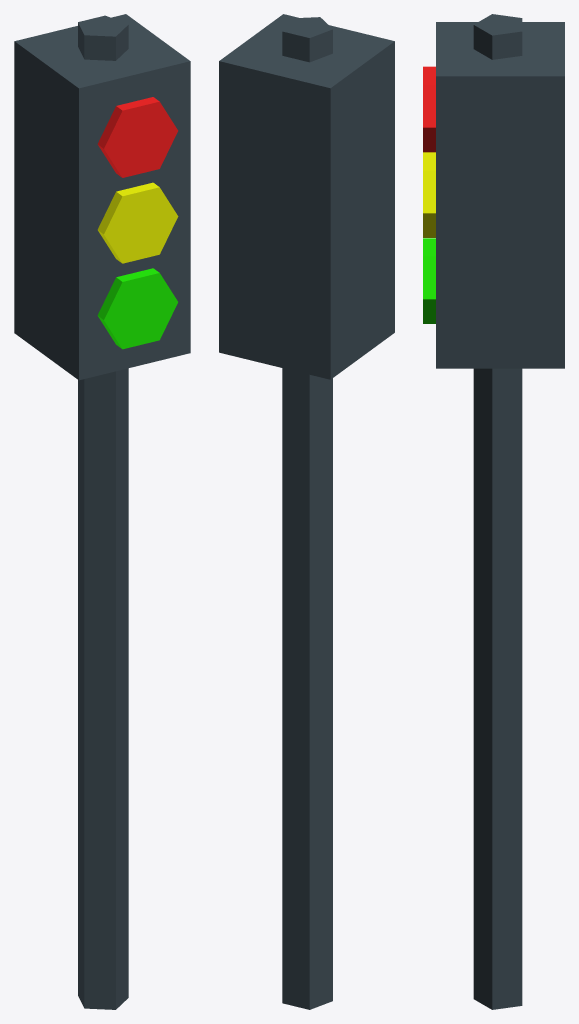
The model's file is Traffic_Light.fbx.
The picture shows the model from 3 angles, left to right: view 1: azimuth 30°, elevation 25°; view 2: azimuth 150°, elevation 25°; view 3: azimuth 270°, elevation 25°; orthographic projection.
Parts seen in each view (by area): view 1: Traffic_Light; view 2: Traffic_Light; view 3: Traffic_Light.
Part boxes in pixels (x1=…): Traffic_Light: x1=14, y1=14, x2=190, y2=1009; Traffic_Light: x1=219, y1=14, x2=394, y2=1009; Traffic_Light: x1=423, y1=14, x2=564, y2=1009.
Size of the model in its own units: 48 by 400 by 52.8.
